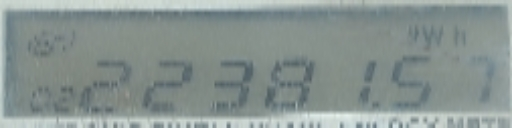0: (462, 53, 499, 108)
1: (350, 49, 375, 110)
2: (139, 49, 193, 112), (84, 46, 130, 114)
3: (209, 42, 253, 117)
5: (388, 47, 439, 119)
7: (450, 49, 500, 110)
8: (257, 42, 316, 117)
d: (369, 98, 384, 109)
